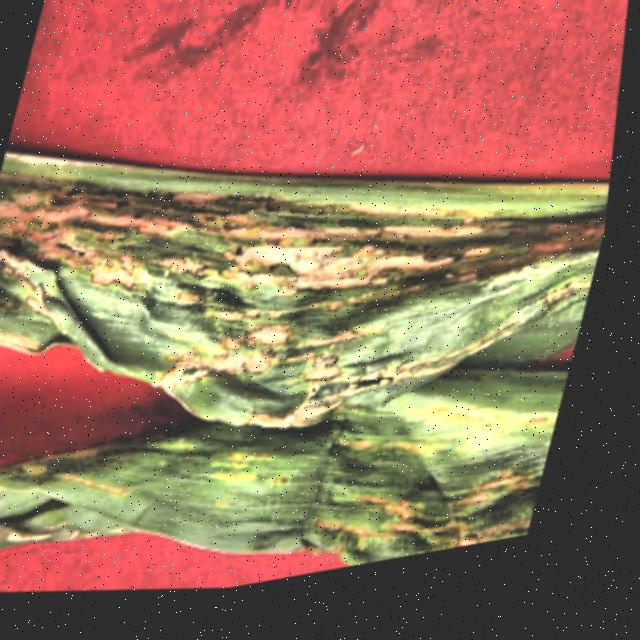blight: (0, 60, 622, 640)
